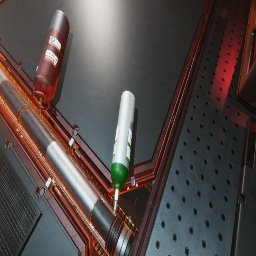0: (111, 91, 135, 214)
NitrogenTank ,: (31, 10, 70, 110)
